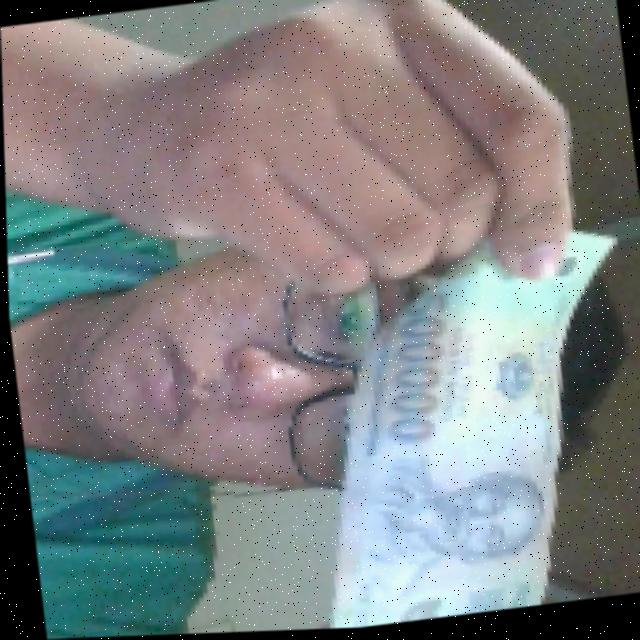500 000 VND: (263, 215, 640, 632)
